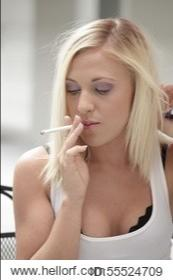Cigarette: (40, 124, 74, 135)
